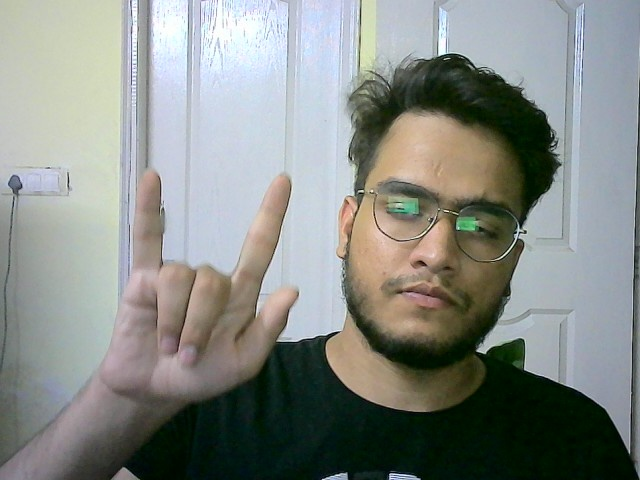I Love You: (116, 158, 298, 405)
